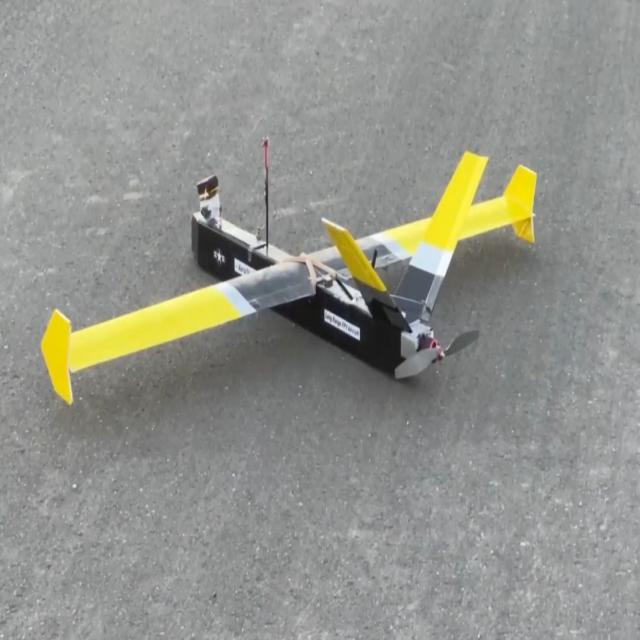iha: (42, 141, 538, 436)
